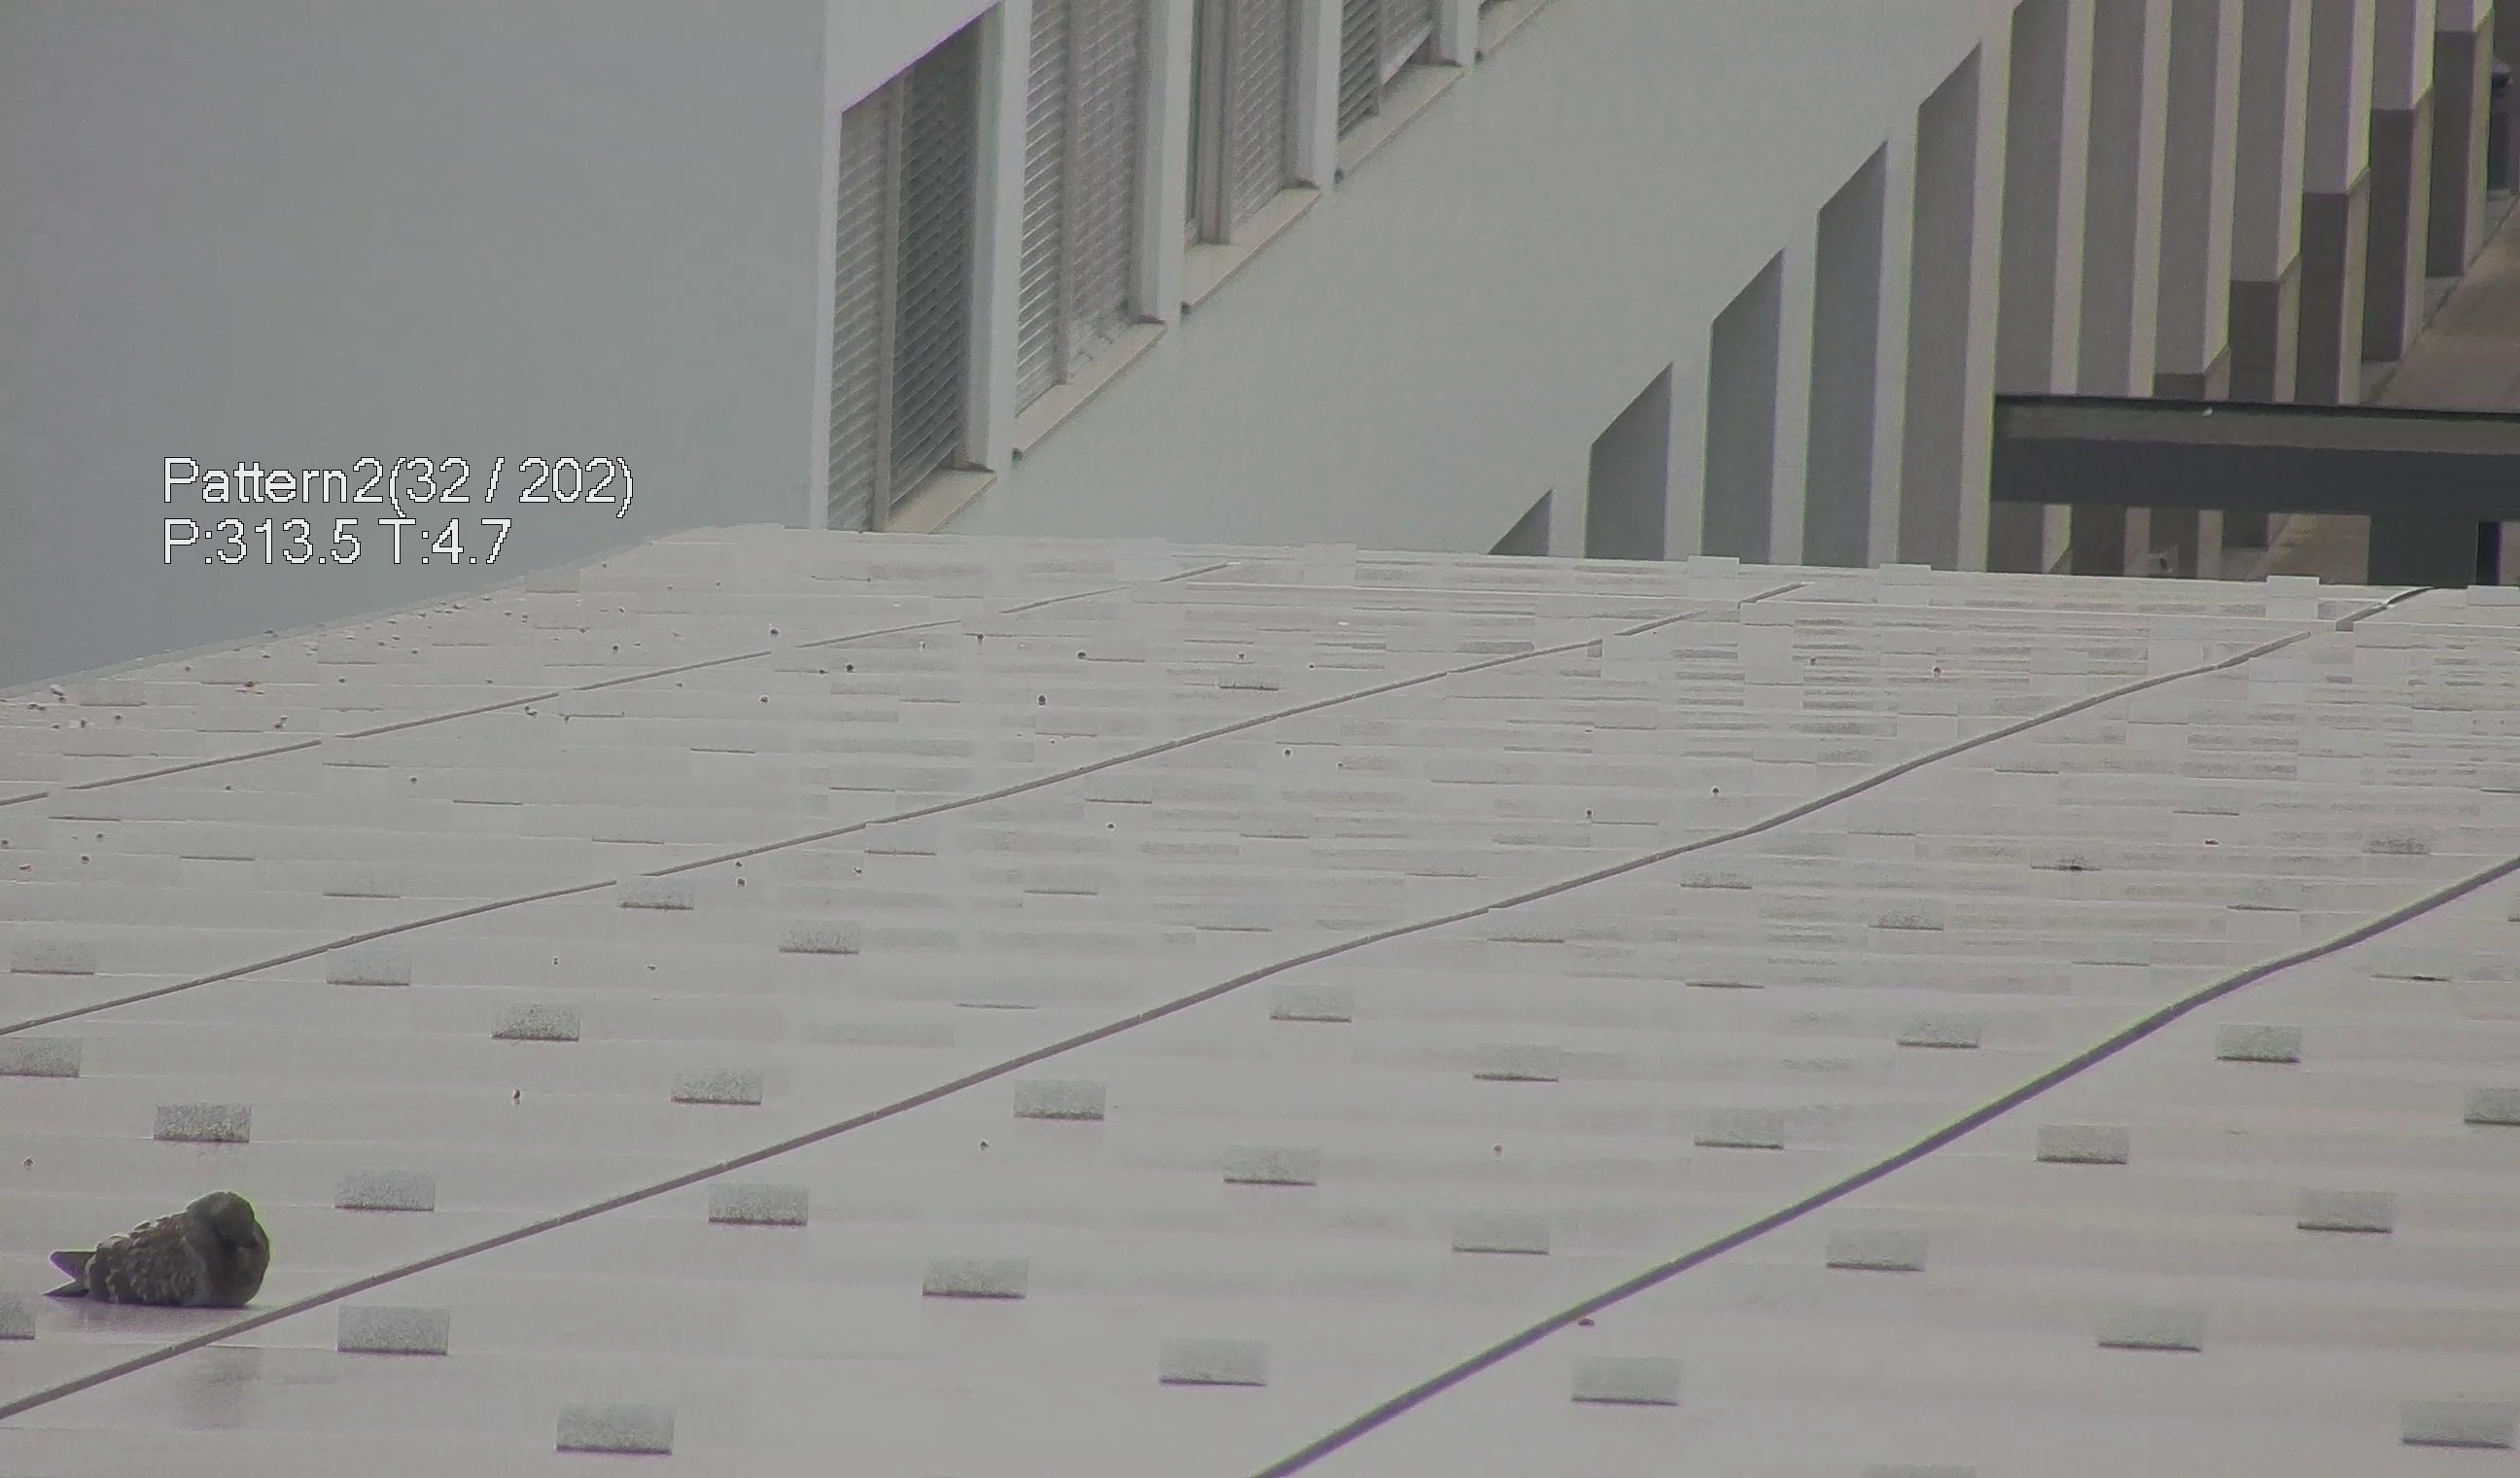Pigeon: (56, 1189, 281, 1328)
